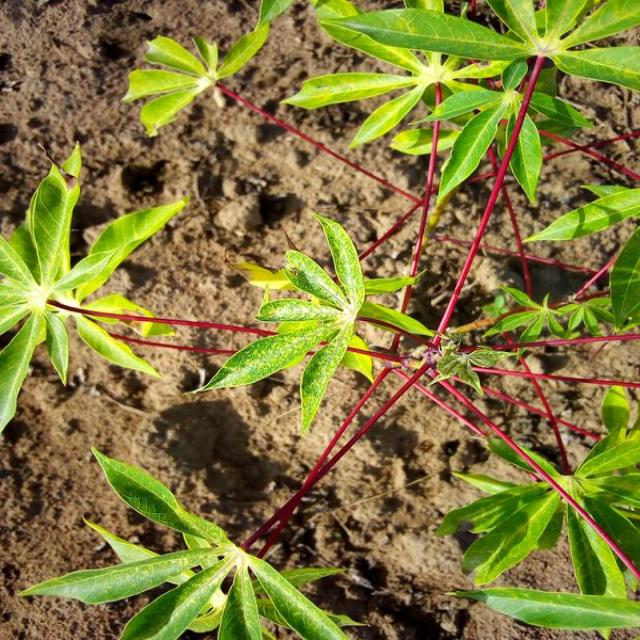cassava leaf: (19, 444, 362, 638), (0, 140, 190, 434), (183, 209, 374, 437)
